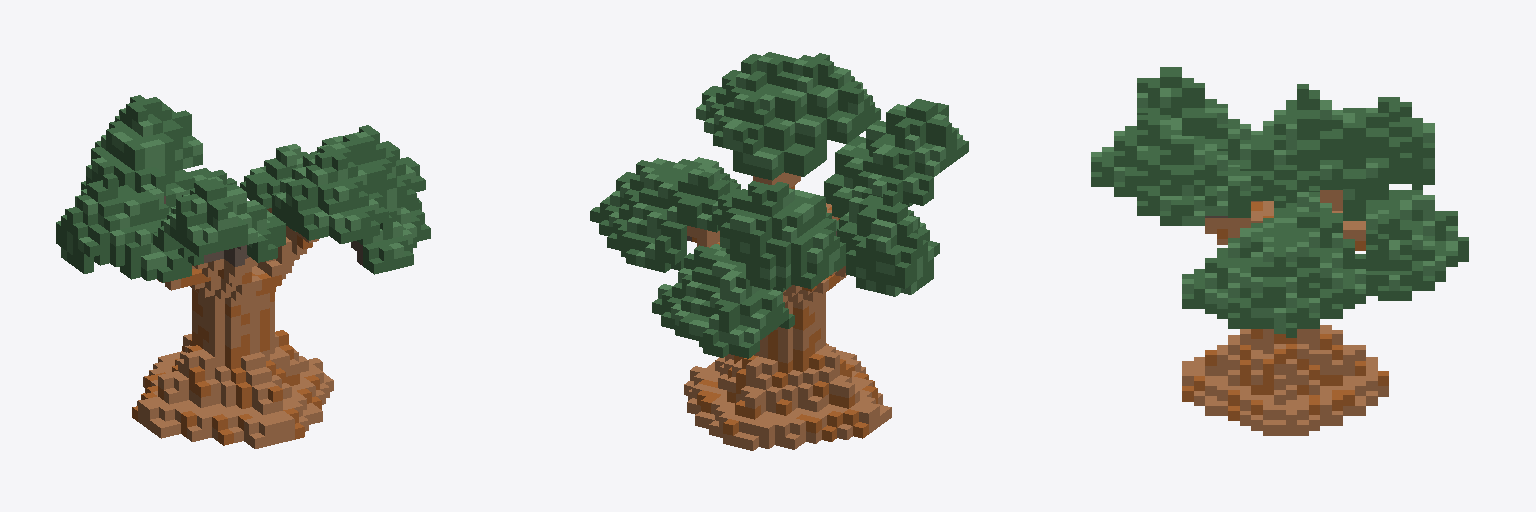
3 renders of one model, left to right at view 1: azimuth 30°, elevation 25°; view 2: azimuth 150°, elevation 25°; view 3: azimuth 270°, elevation 25°, orthographic.
Parts seen in each view (by area): view 1: Model; view 2: Model; view 3: Model.
Part boxes in pixels (left/top/right/bottom): Model: left=56, top=95, right=430, bottom=448; Model: left=590, top=52, right=968, bottom=450; Model: left=1091, top=67, right=1468, bottom=435.
Size of the model in its own units: 17 by 14 by 16.5.
Materials: 1 (1 with a texture image).